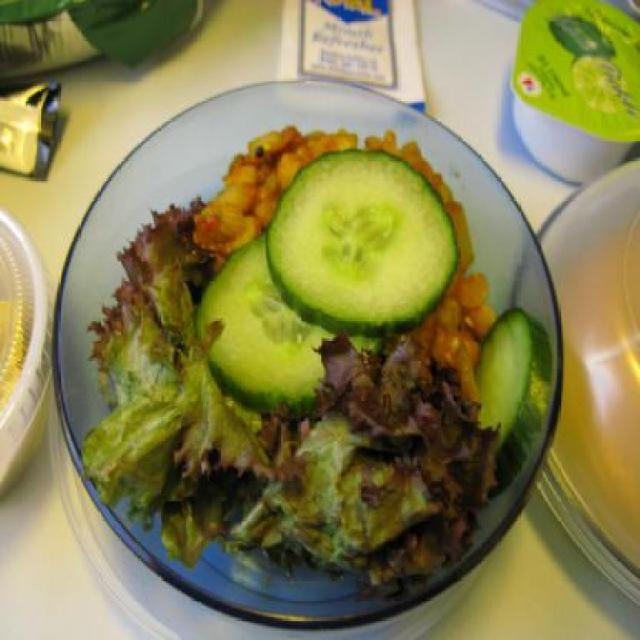Zucchini: (194, 228, 383, 416)
